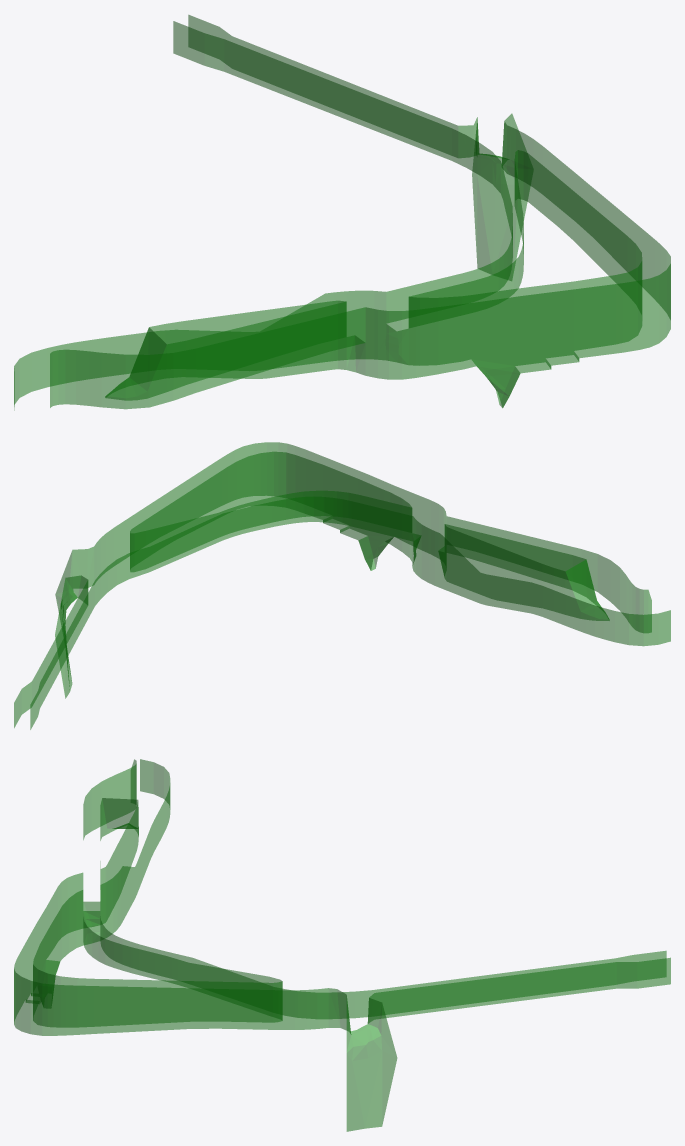
Rendered from myk_Act2_C_01.polymsh3433.obj.
3 renders of one model, top to bottom at view 1: azimuth 30°, elevation 25°; view 2: azimuth 150°, elevation 25°; view 3: azimuth 270°, elevation 25°, orthographic. The views are drawn at different scales.
Bounding box in the file's own units: 441 × 110 × 477.
